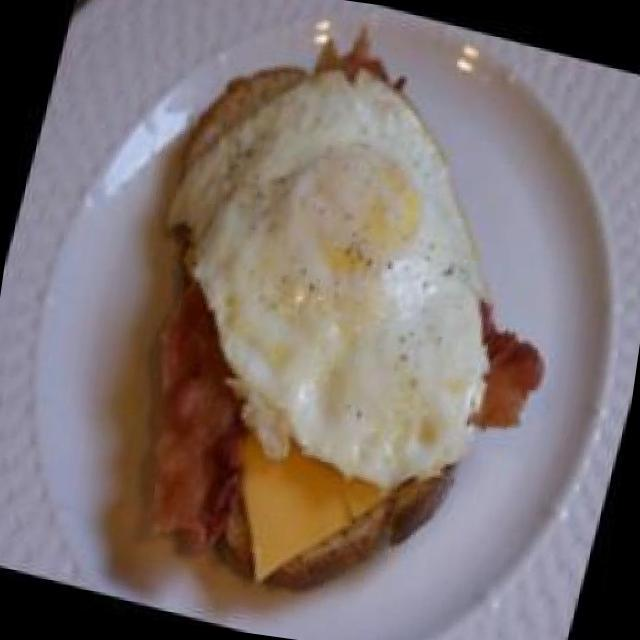fried_eggs: (105, 10, 568, 502)
